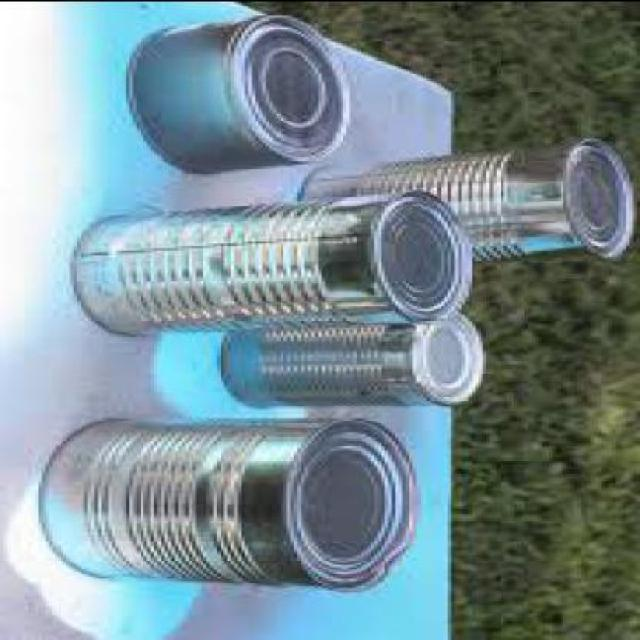METAL: (39, 414, 423, 589), (73, 183, 476, 334), (301, 132, 633, 258), (125, 12, 350, 175), (224, 309, 490, 405)
